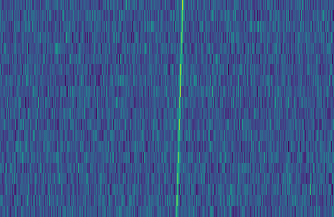signal: (171, 0, 186, 217)
